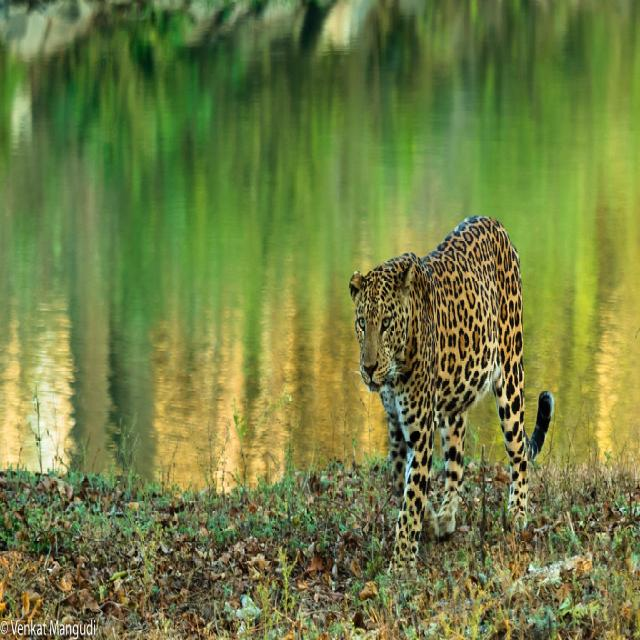Leopard: (349, 216, 553, 573)
